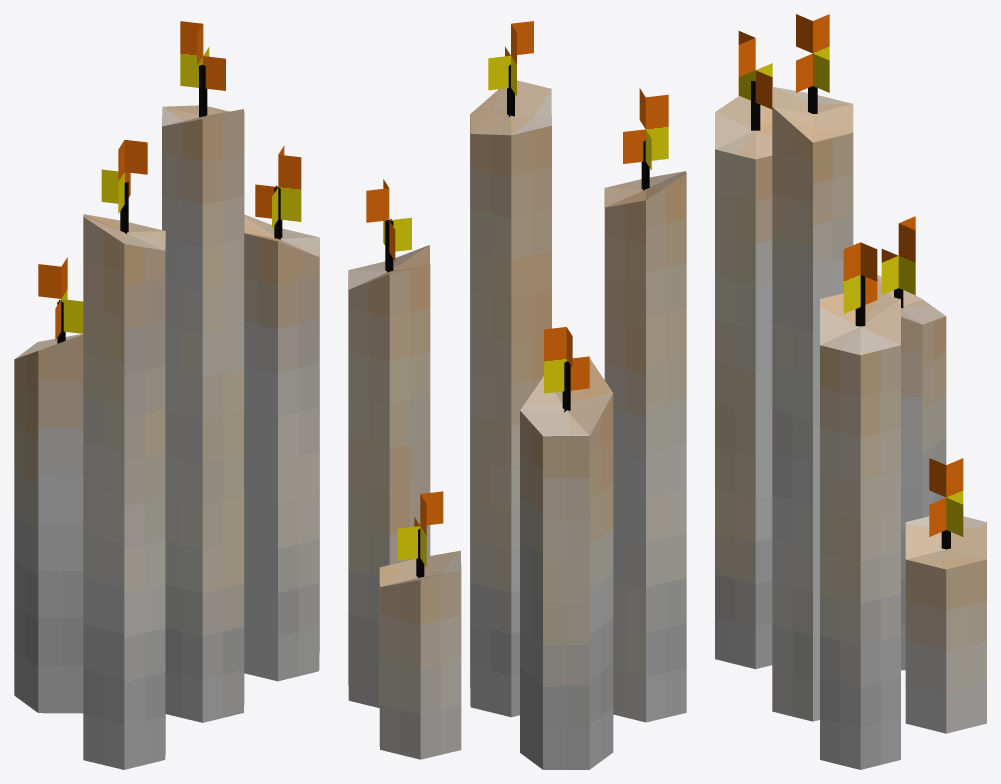
File: MDL_Candles.glb
3 views of the same model, side by side, from view 1: azimuth 30°, elevation 25°; view 2: azimuth 150°, elevation 25°; view 3: azimuth 270°, elevation 25° (orthographic).
Parts seen in each view (by area): view 1: CANDLES; view 2: CANDLES; view 3: CANDLES.
Part boxes in pixels (left/top/right/bottom): CANDLES: left=14, top=21, right=319, bottom=769; CANDLES: left=348, top=21, right=686, bottom=769; CANDLES: left=715, top=14, right=986, bottom=769.
Bounding box in the file's own units: 0.2188 × 0.4922 × 0.1781.
Materials: 1 (1 with a texture image).
